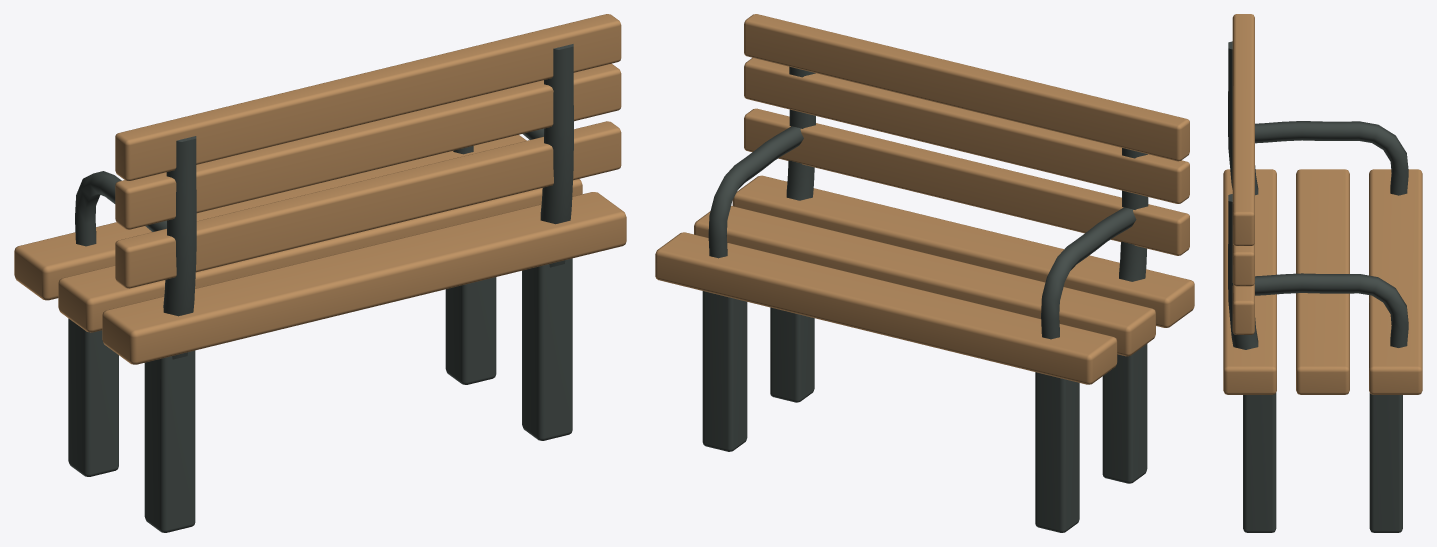
File: garden.bench-new.glb
3 renders of one model, left to right at view 1: azimuth 30°, elevation 25°; view 2: azimuth 150°, elevation 25°; view 3: azimuth 270°, elevation 25°, orthographic. The views are drawn at different scales.
Parts seen in each view (by area): view 1: Cast frame leg; view 2: Cast frame leg; view 3: Cast frame leg.
Part boxes in pixels (x1,y1,x2,y2): Cast frame leg: (14,14,626,532); Cast frame leg: (655,14,1194,532); Cast frame leg: (1223,14,1422,532).
Size of the model in its own units: 1.5 by 1.18 by 0.63.
